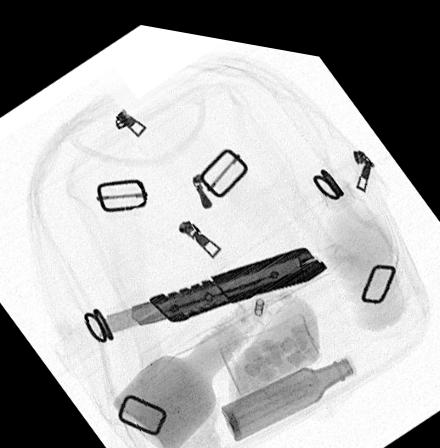Knife: (98, 234, 326, 333)
